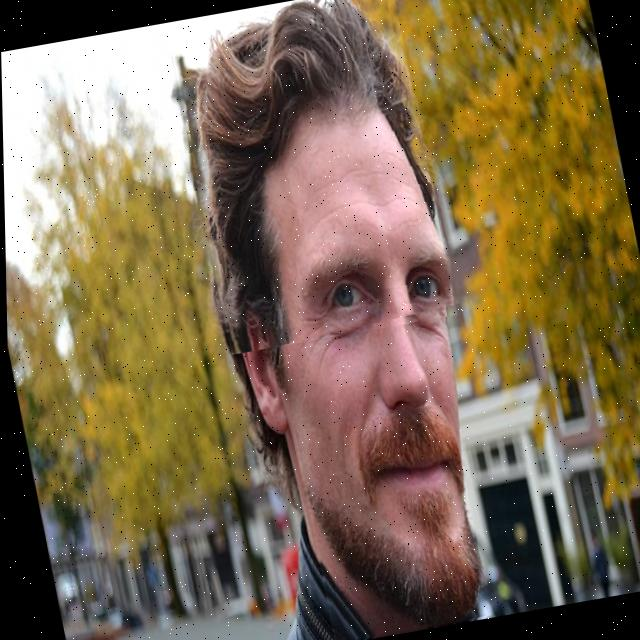beard: (304, 411, 474, 627)
hair: (193, 0, 430, 353)
